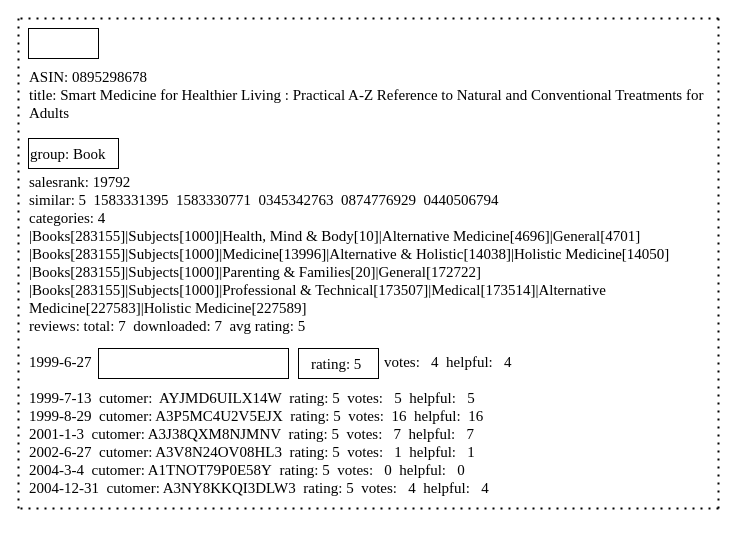
Image size: 737x535. Some labels were removed from this diagram. The centre of each missing label's shape, as x and y in pixels:
"cutomer: A3O56I9MOKW1SI" belongs at (x=193, y=363).
"Id: 1304" belongs at (x=63, y=43).
